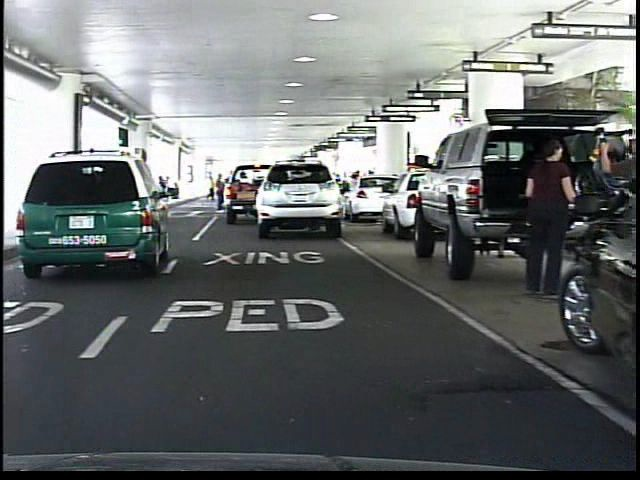person: (509, 137, 576, 304)
